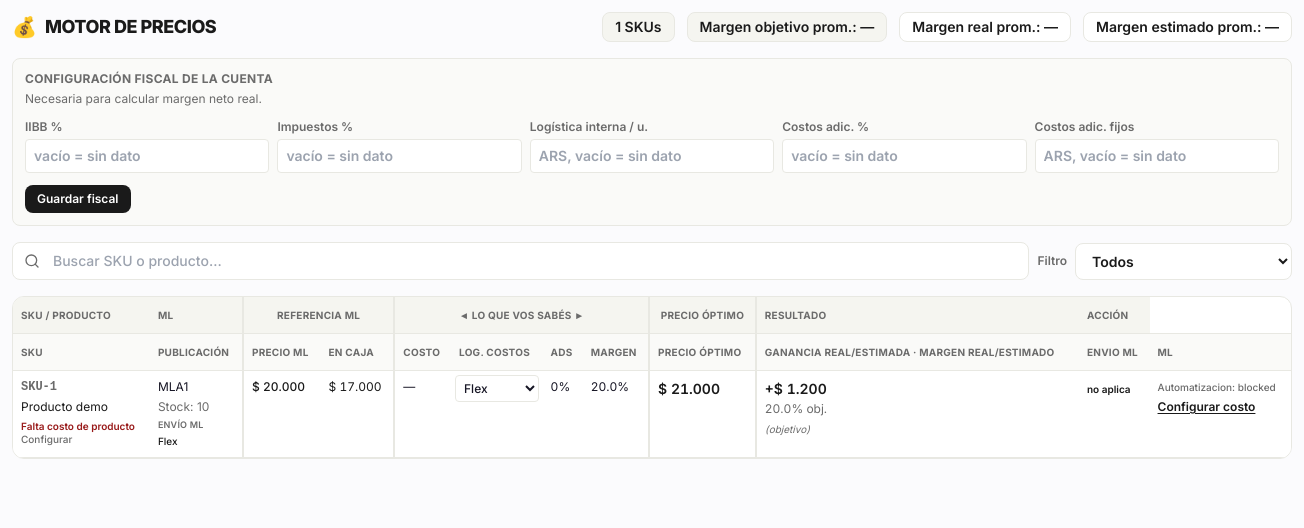
Test case: PricingEngineTable - Configurar flow › click Configurar costo abre editor de costo y Enter guarda cambios
Step 1. Click the button "Configurar costo" → (1206, 407), box [1158,399,1255,415]
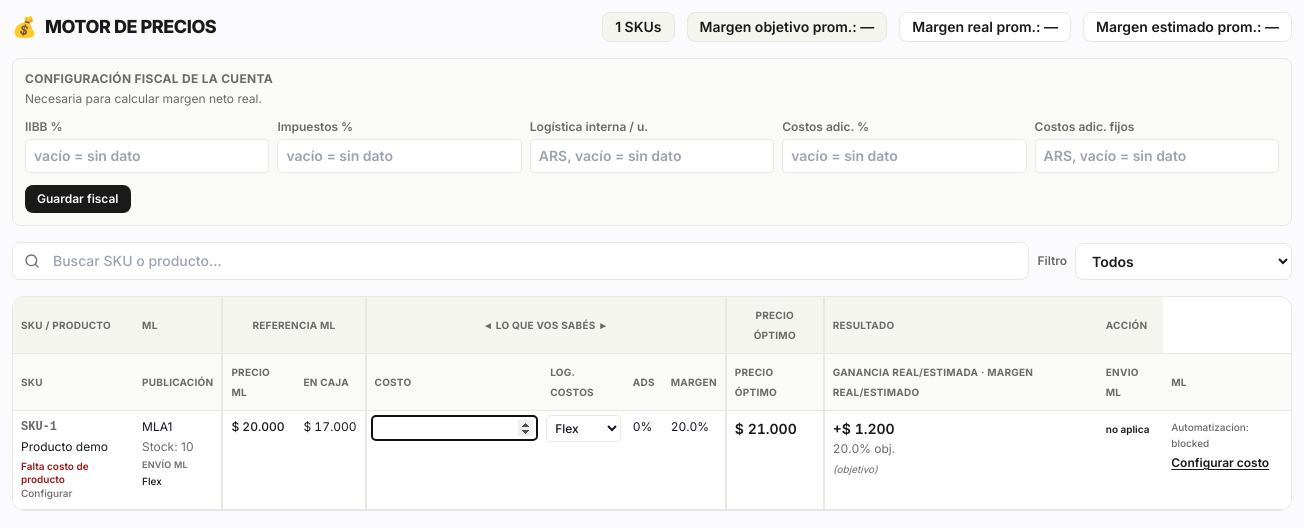
Step 2. Type "12000" into the number field → (454, 428), box [370,415,538,441]
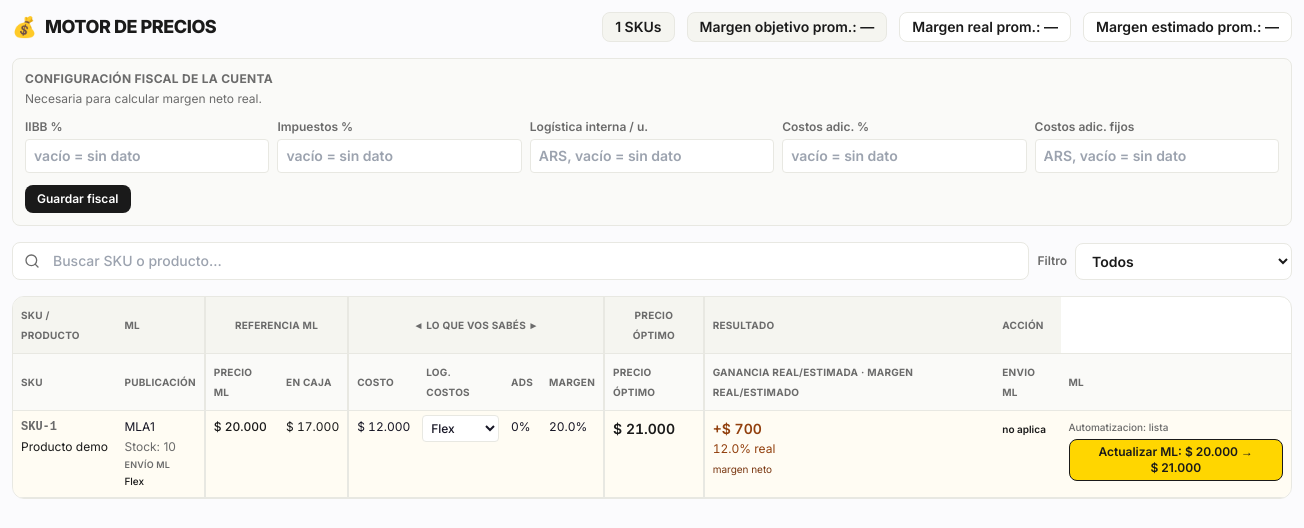
Expected: the text "SKU-1" is shown, [21,420,57,434]
Step 3. Press Enter in the text "SKU-1", box [13,410,1291,497]
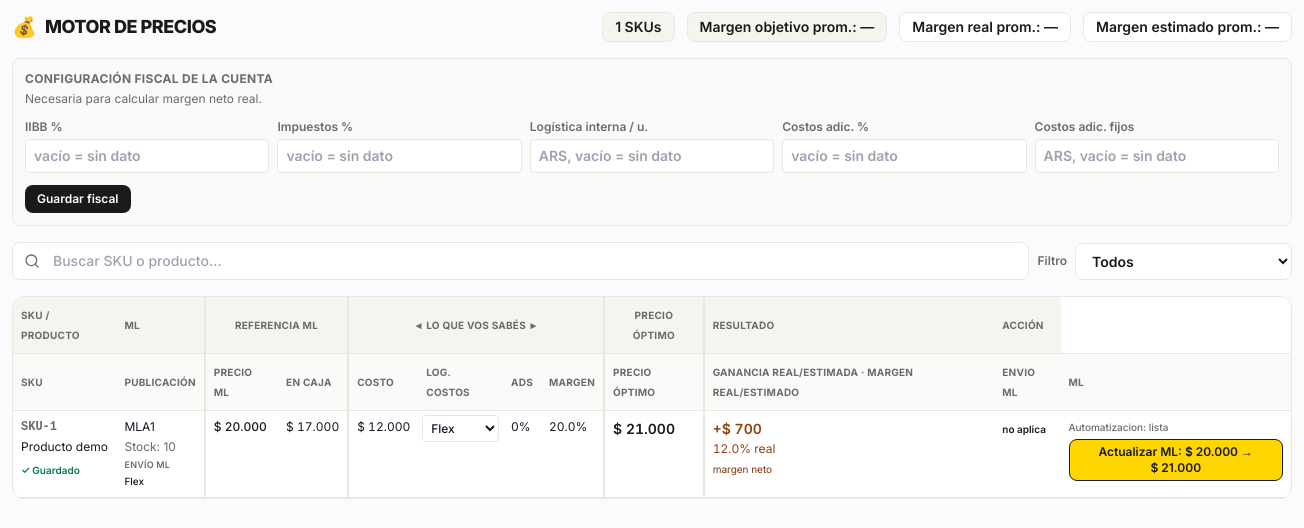
Now the button "$ 12.000" is shown, box [353,415,414,439]
Now the text "✓ Guardado" is shown, box [21,464,80,476]
